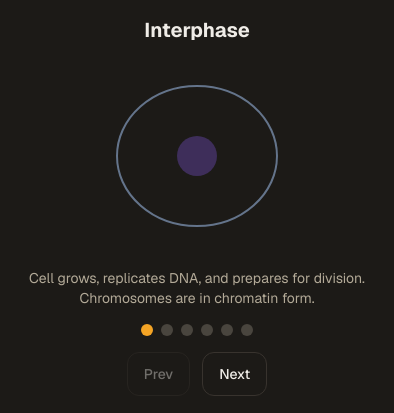
Scenario: MitosisSteps › navigates back with Previous button
This screenshot has width=394, height=413.
Click the button "Next" at (235, 374), box [202,352,267,396]
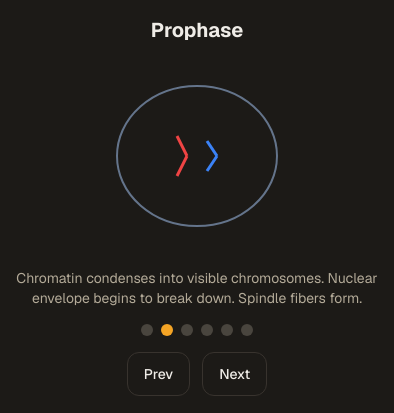
Now the heading "Prophase" is shown, box [151,16,243,44]
Click the button "Prev" at (158, 374), box [127,352,190,396]
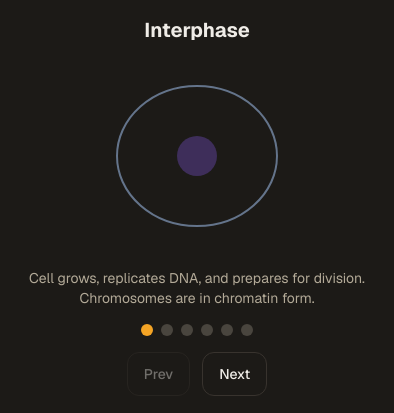
Now the heading "Interphase" is shown, box [144,16,250,44]
